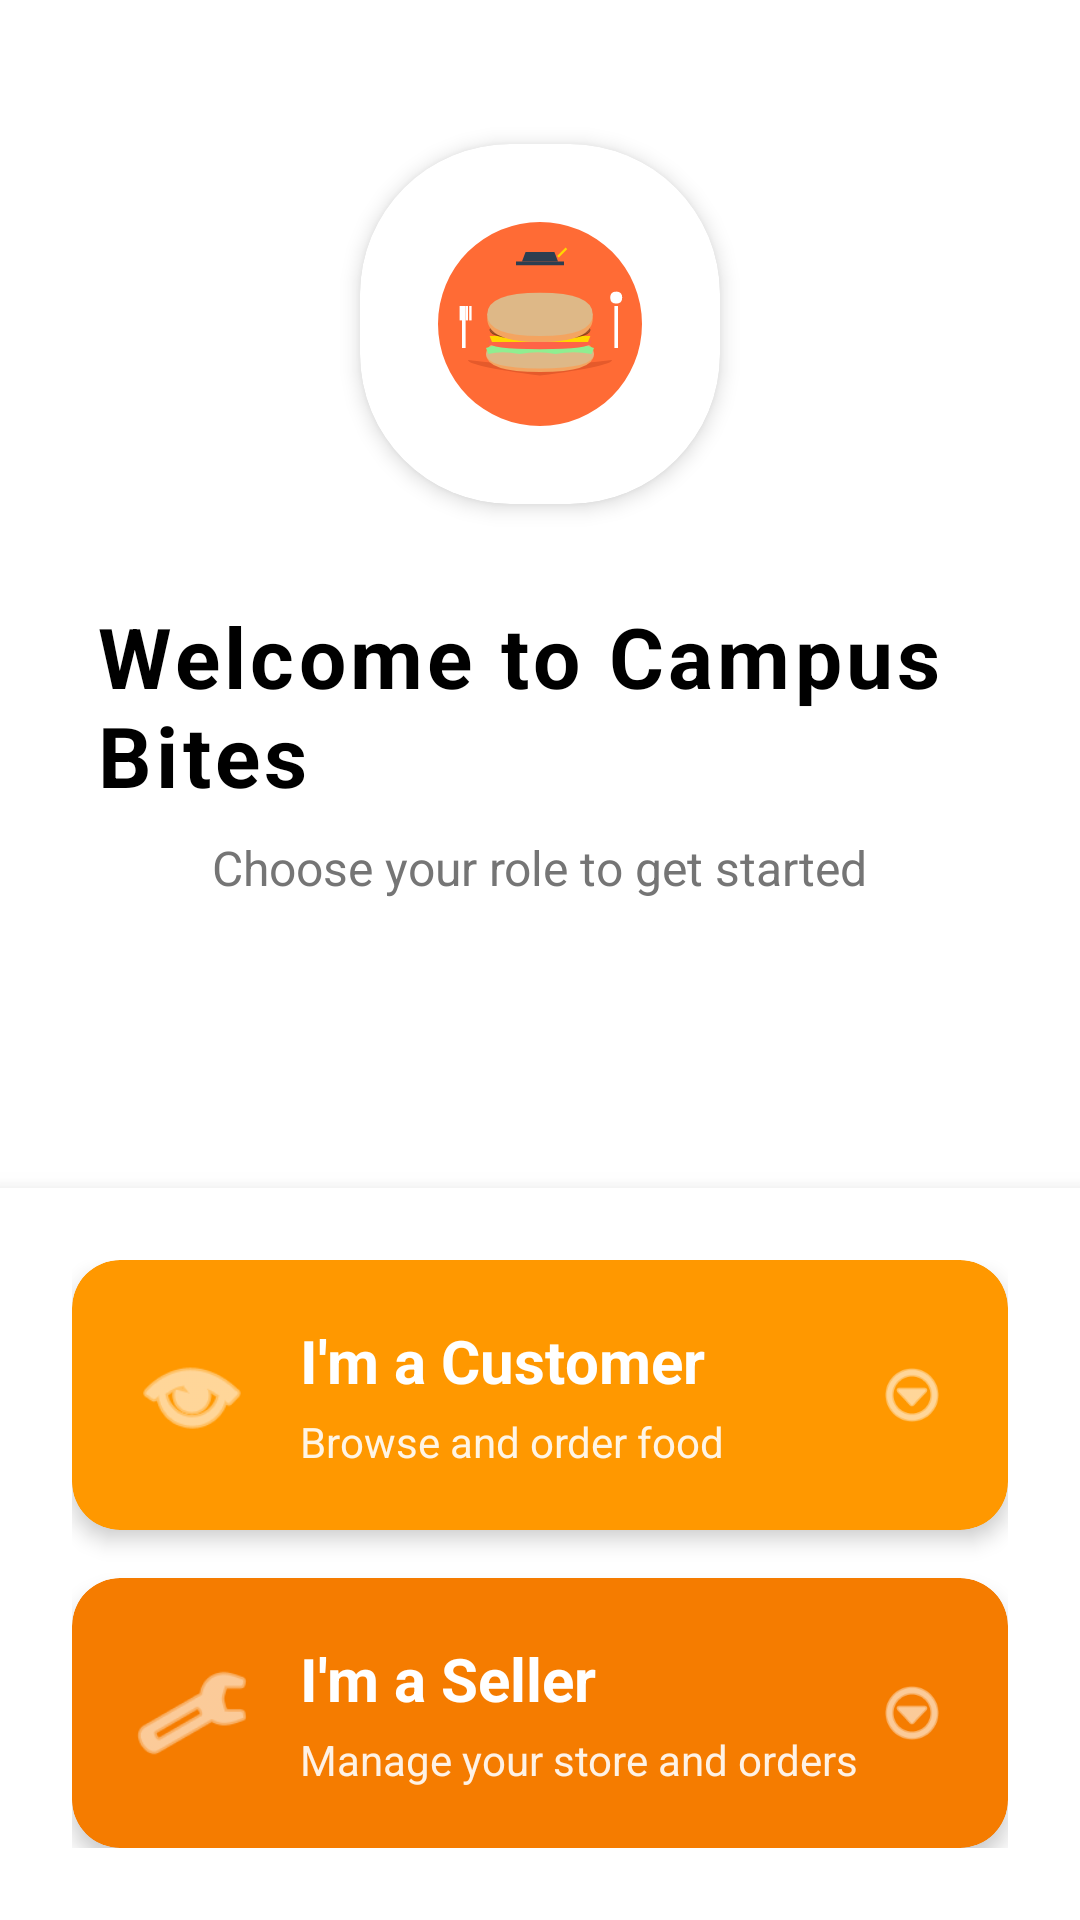

Where to tap for icons on this 1080x1920 app screen, as point (x, y):
more: point (912, 1395), point (912, 1713)
view: point (192, 1398)
